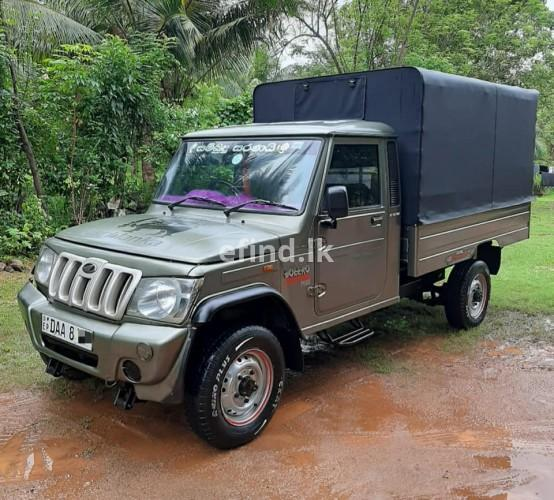truck: (17, 65, 538, 451)
